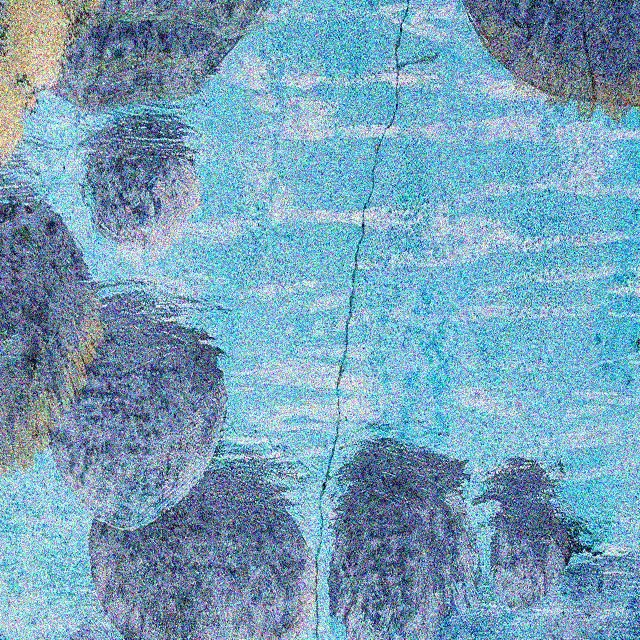SurfaceCrack: (289, 0, 449, 639)
